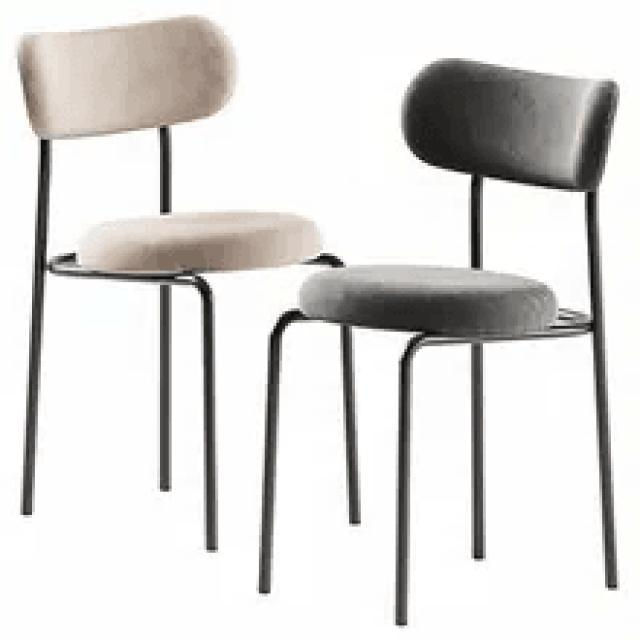chair: (258, 58, 634, 634), (12, 8, 364, 557), (4, 0, 342, 332), (268, 70, 622, 368)
